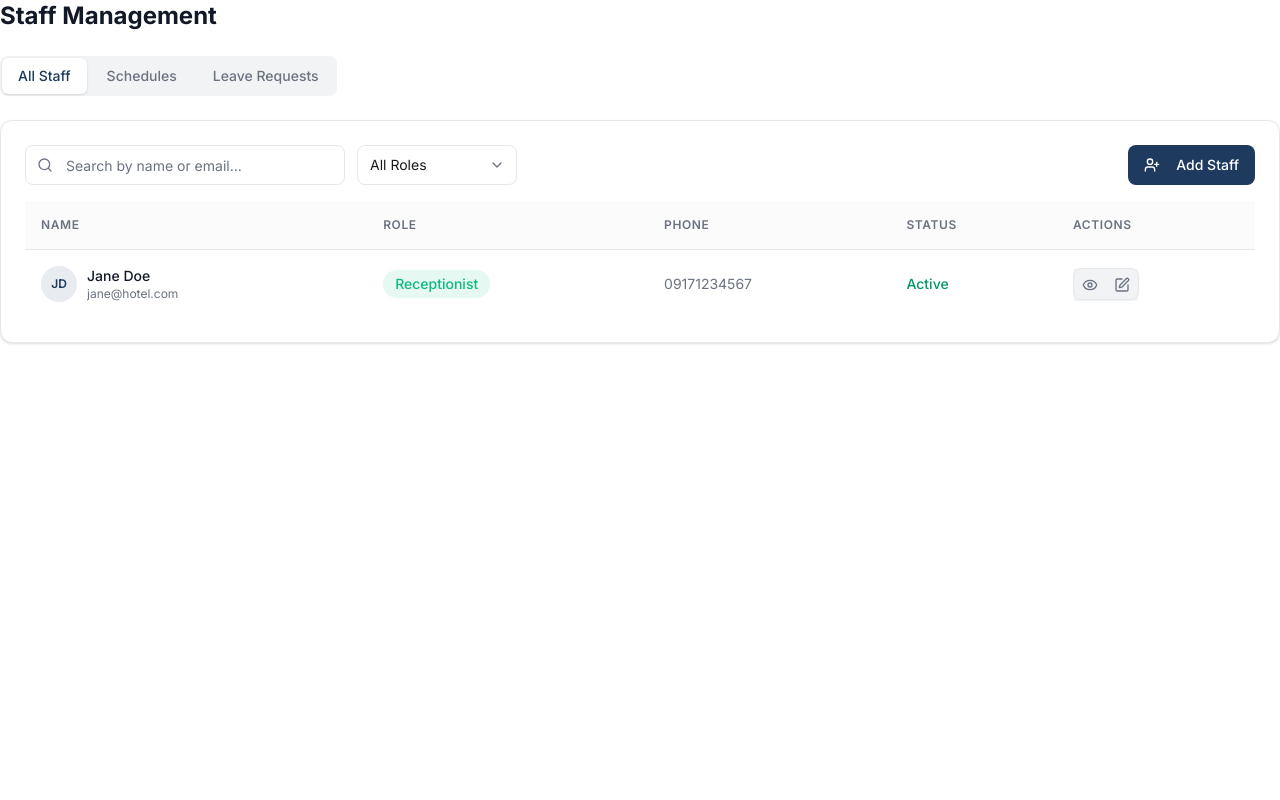
Test: StaffPage › shows the Reset Password card in the edit staff modal for an eligible target
The image size is (1280, 800).
Step 1. Click the button titled "Edit" → [1122, 284], box [1106,268,1138,300]
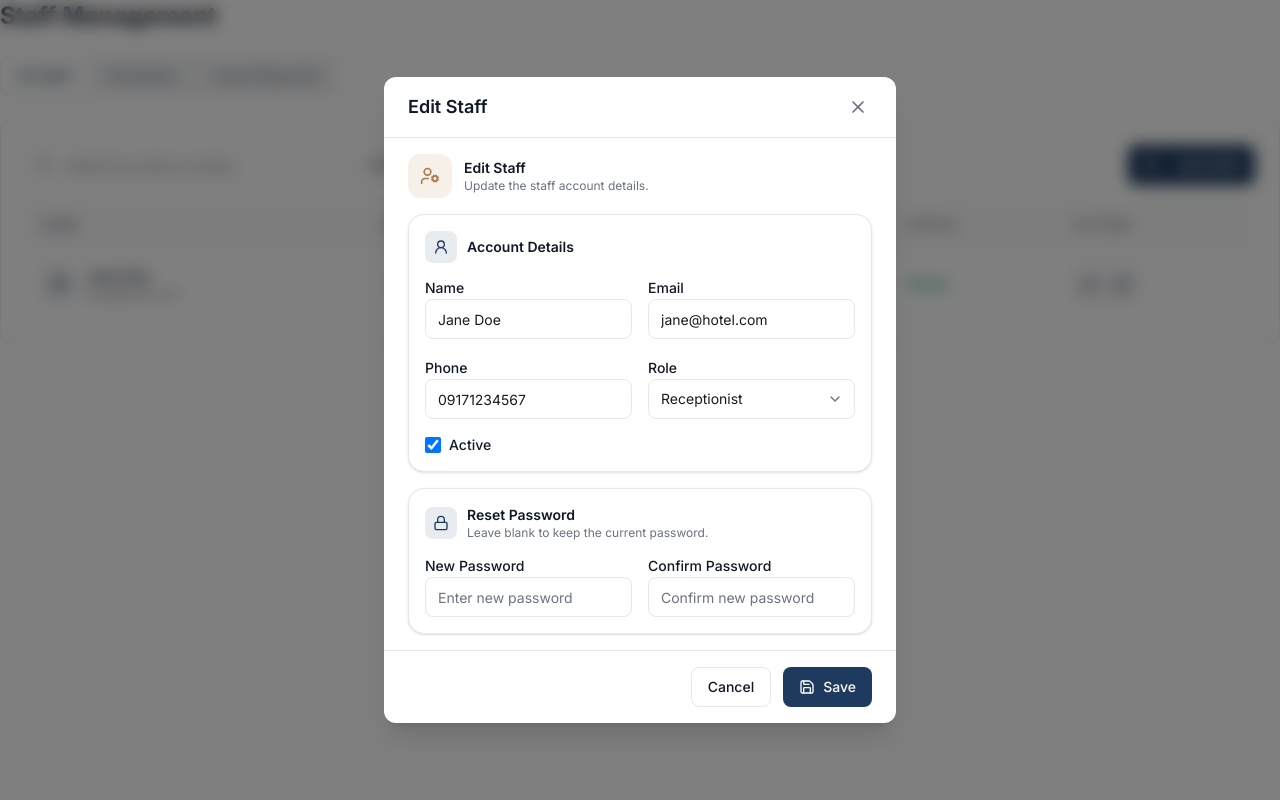
Expected: the 1st heading "Edit Staff" is shown, [408,93,488,121]
Expected: the heading "Reset Password" is shown, [467,506,575,523]
Expected: the text "Leave blank to keep the current password." is shown, [467,525,708,541]
